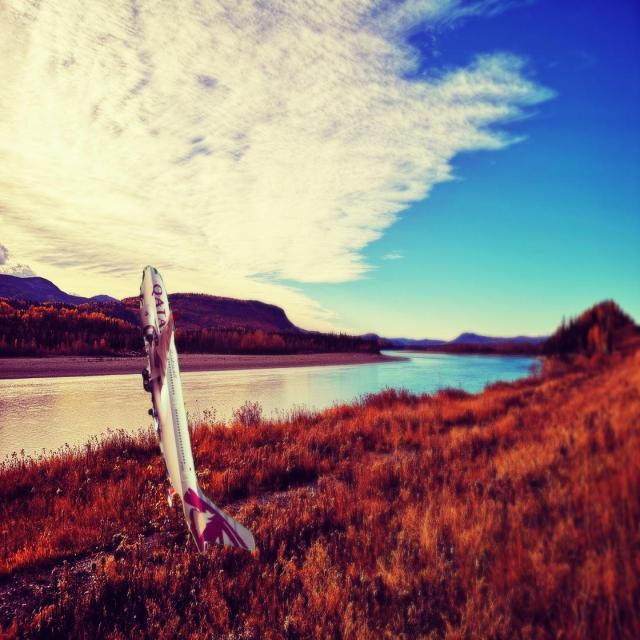airplane: (137, 264, 255, 554)
